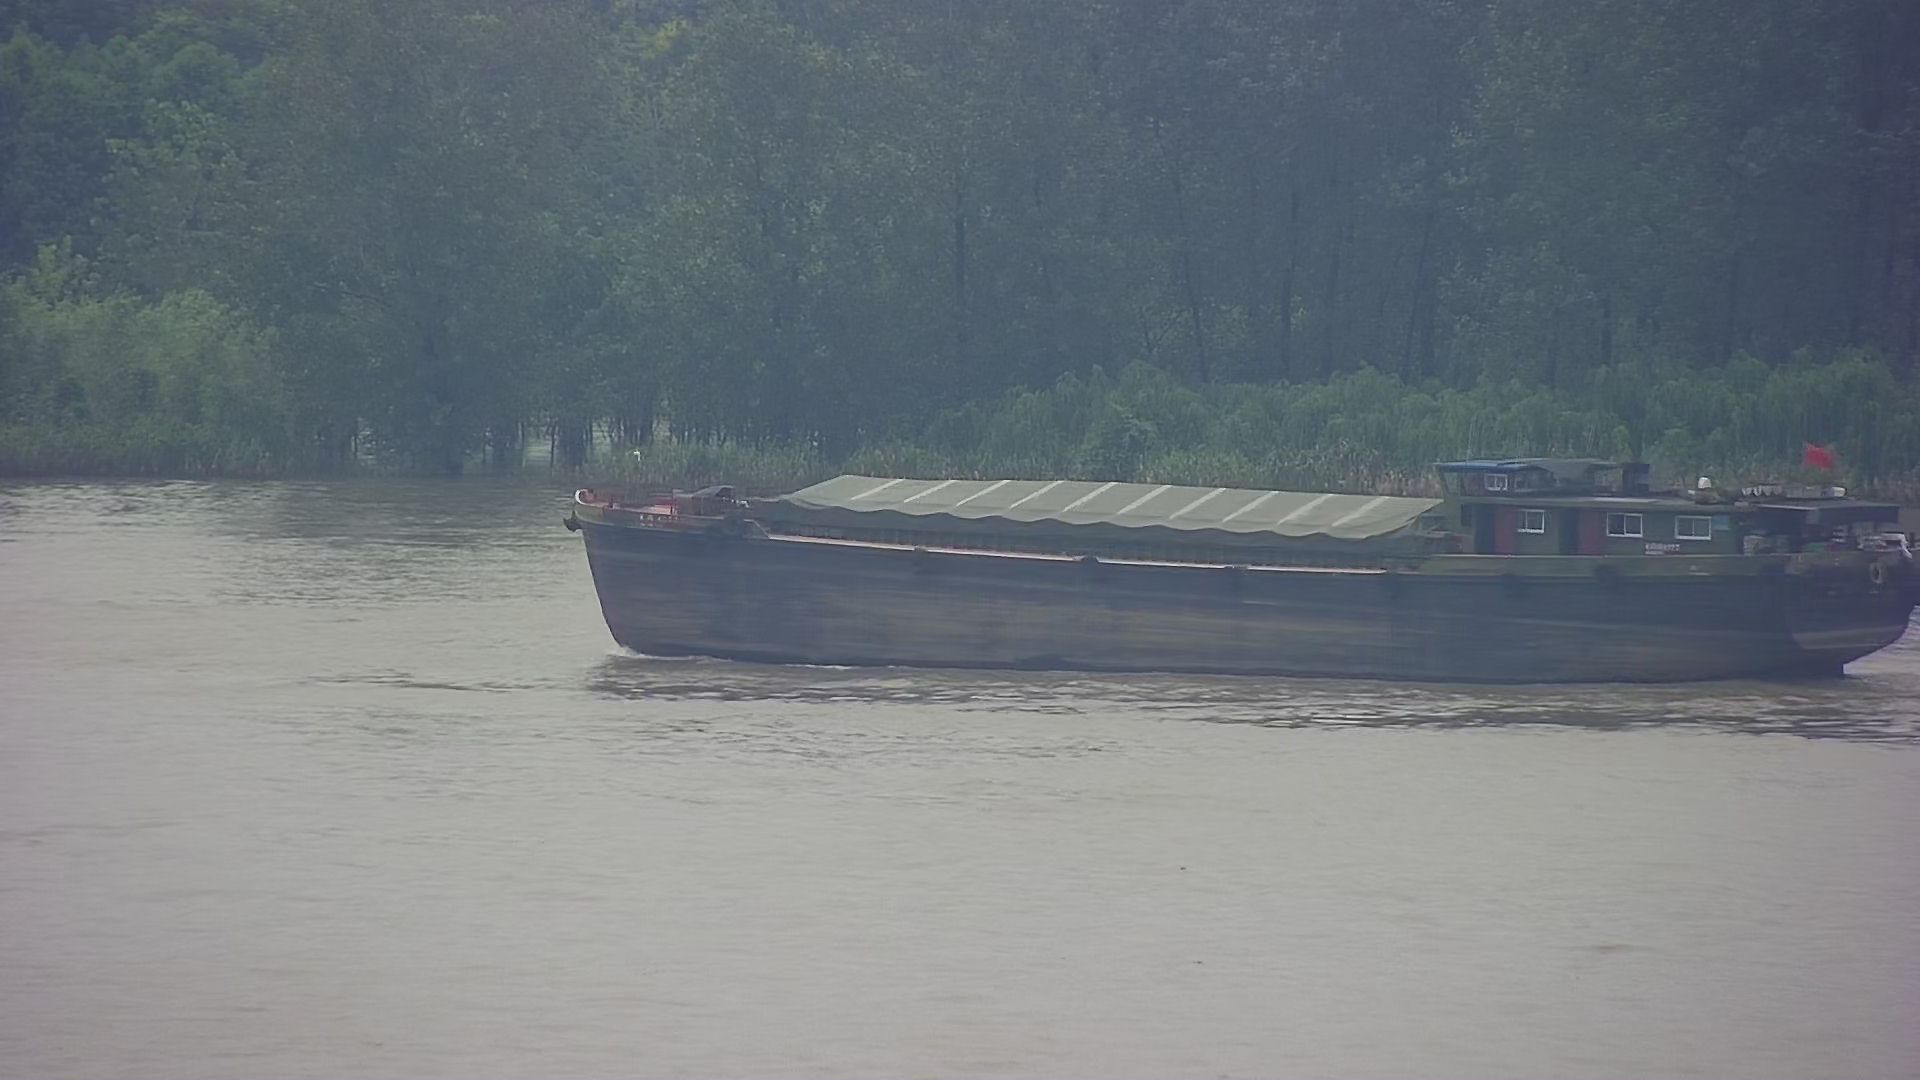ship: (560, 440, 1920, 684)
